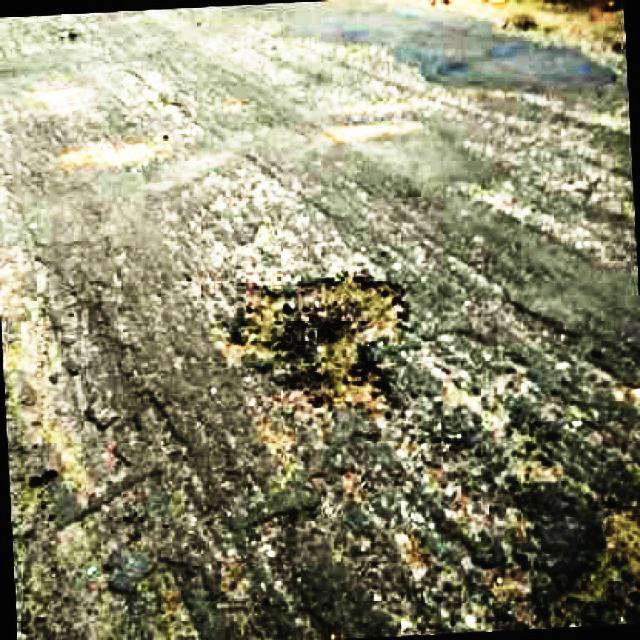pothole: (231, 271, 418, 420), (537, 497, 640, 638)
